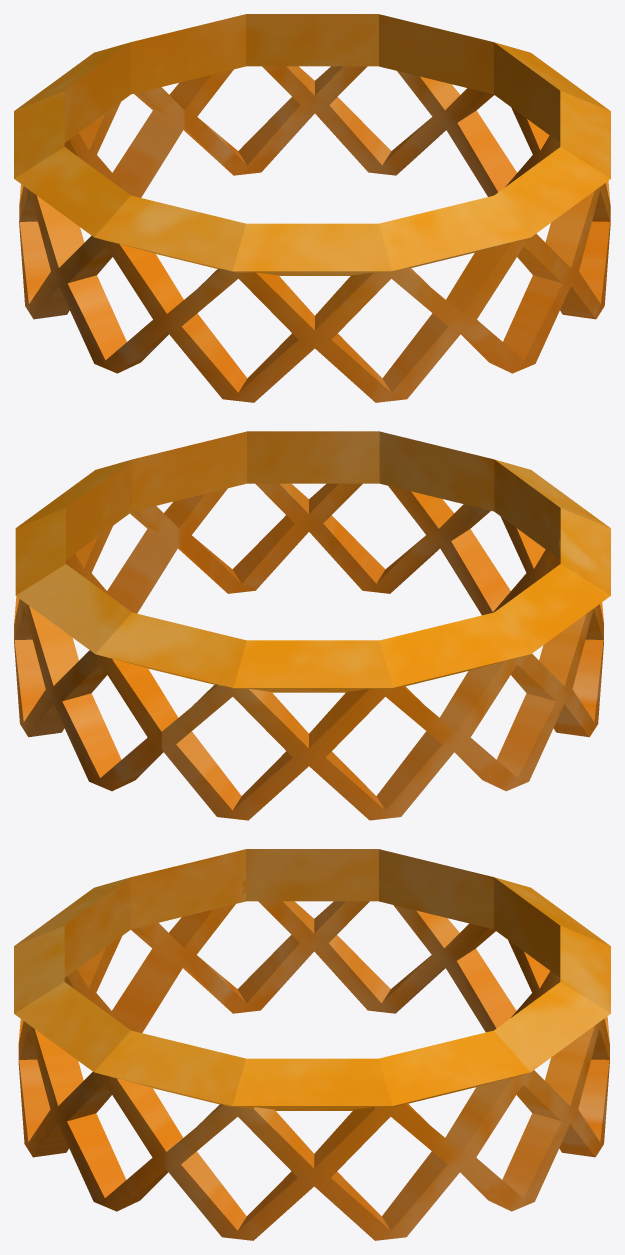
File: Hull_Armour_01.fbx
3 renders of one model, top to bottom at view 1: azimuth 30°, elevation 25°; view 2: azimuth 150°, elevation 25°; view 3: azimuth 270°, elevation 25°, orthographic.
Visible parts, largest first — view 1: Hull_Armour_01; view 2: Hull_Armour_01; view 3: Hull_Armour_01.
Boxes of the visible parts, x1,y1,x2,y2 form: Hull_Armour_01: (14, 14, 610, 402); Hull_Armour_01: (14, 431, 610, 820); Hull_Armour_01: (14, 849, 610, 1240).
Bounding box in the file's own units: 14.89 × 4.48 × 14.87.
